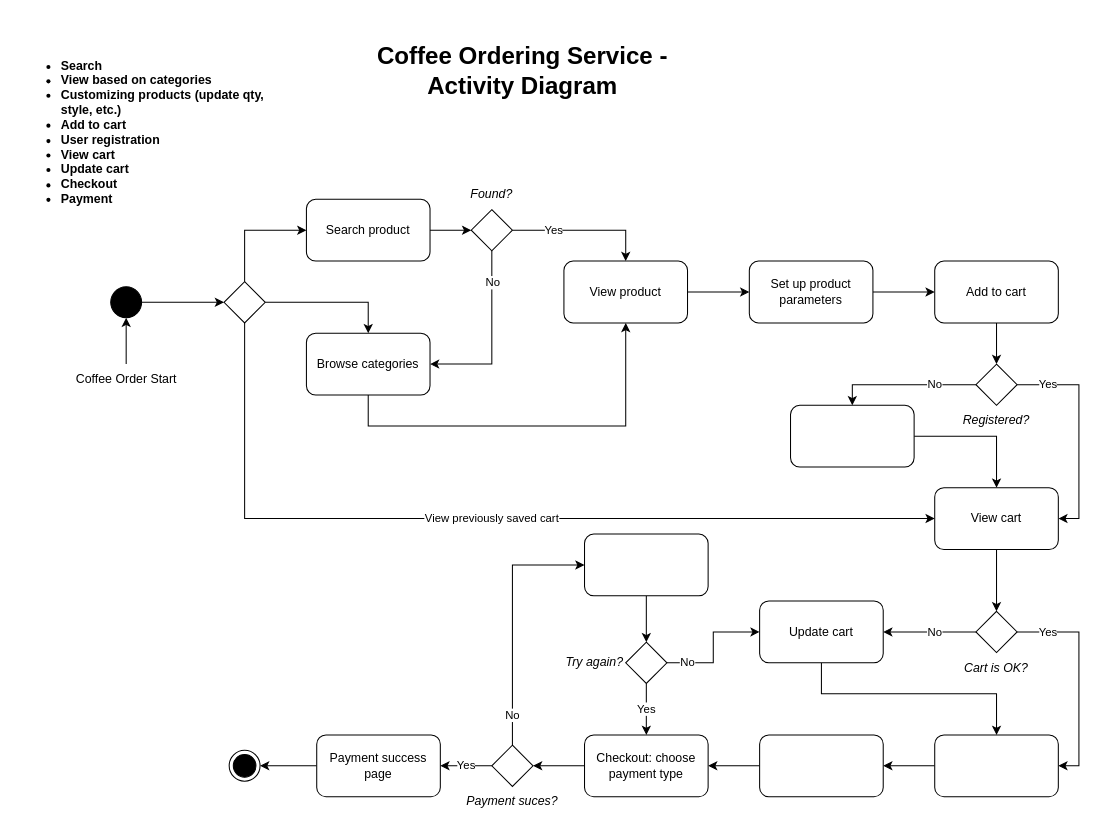
This 1105x835 diagram has some shape labels left out. The centre of each missing label's shape, as x and y in pixels:
Checkout: choose address: the point at 996,765
Checkout: choose delivery type: the point at 821,765
Payment failure page: the point at 645,564
User register: the point at 851,435
